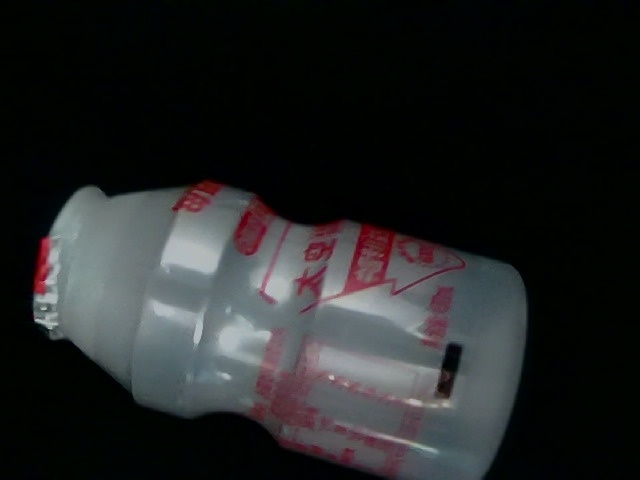CYLJ: (145, 194, 535, 456)
